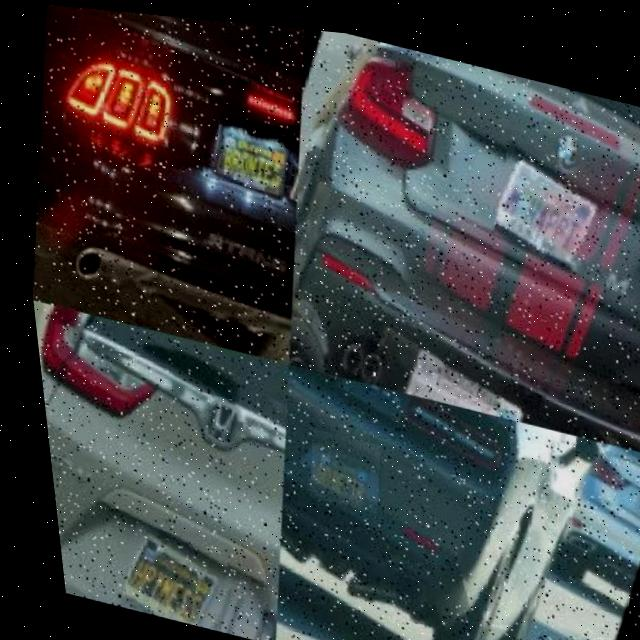LicensePlate: (482, 129, 611, 259), (104, 519, 224, 631), (293, 423, 377, 508), (217, 110, 293, 180)
